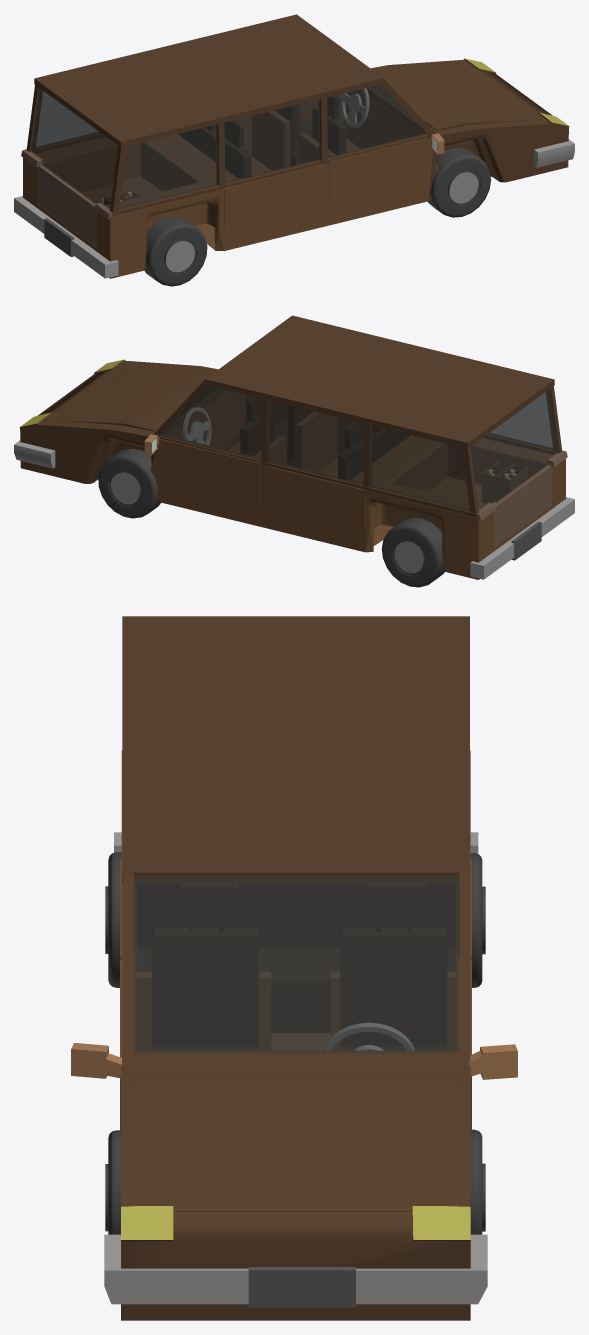
The model's file is Main car with rig.fbx.
3 renders of one model, top to bottom at view 1: azimuth 30°, elevation 25°; view 2: azimuth 150°, elevation 25°; view 3: azimuth 270°, elevation 25°, orthographic. The views are drawn at different scales.
Visible parts, largest first — view 1: car_front1; view 2: car_front1; view 3: car_front1.
Boxes of the visible parts, box(x1,y1,x2,y2) form: car_front1: box(14, 14, 574, 286); car_front1: box(14, 315, 574, 587); car_front1: box(71, 616, 517, 1320).
Bounding box in the file's own units: 10.15 × 3.22 × 4.18.
